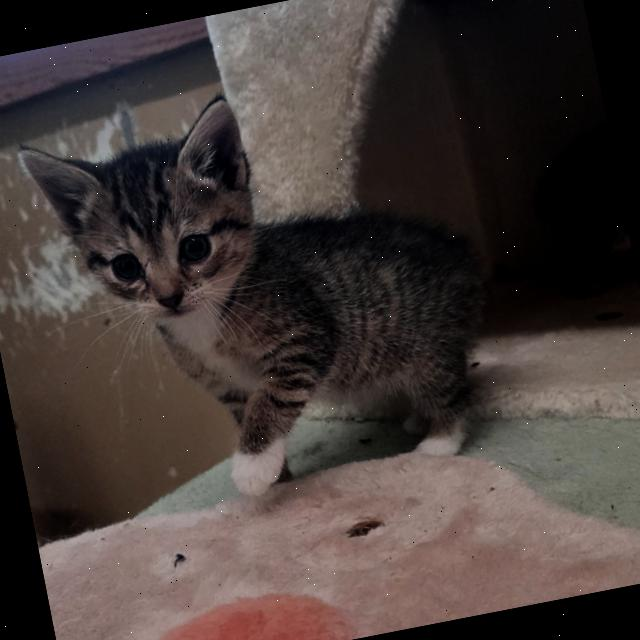manx_cat: (8, 82, 294, 356)
